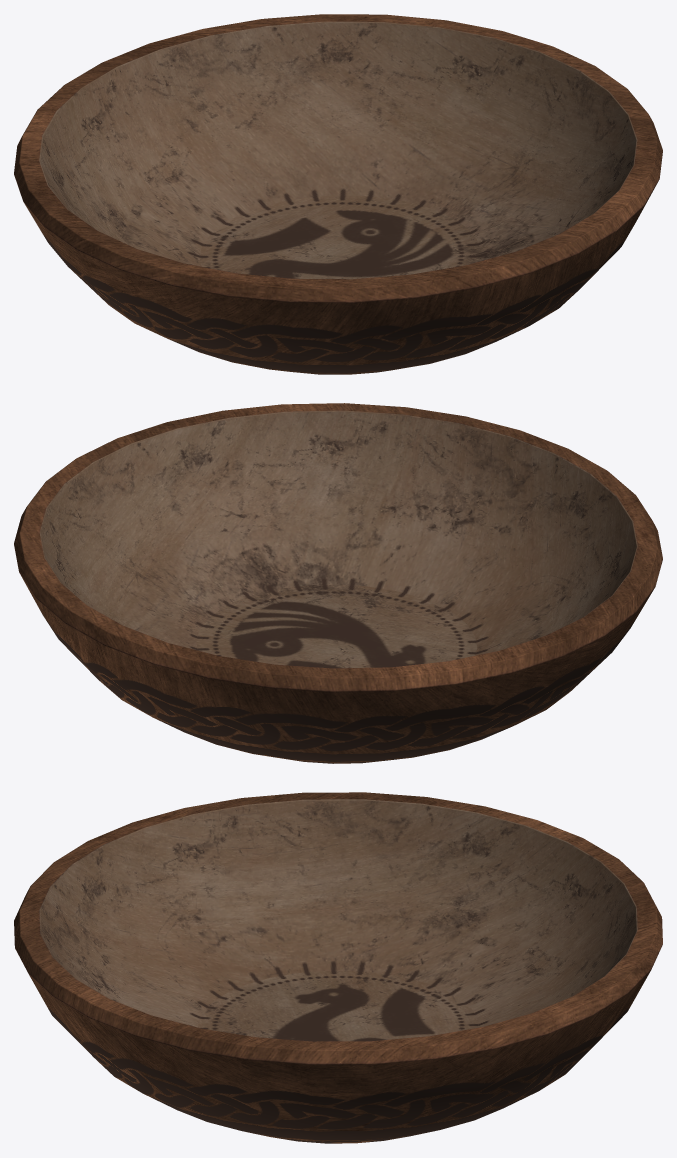
Rendered from BowlMain.glb.
3 renders of one model, top to bottom at view 1: azimuth 30°, elevation 25°; view 2: azimuth 150°, elevation 25°; view 3: azimuth 270°, elevation 25°, orthographic.
Visible parts, largest first — view 1: VikingsObjectsBowl; view 2: VikingsObjectsBowl; view 3: VikingsObjectsBowl.
Part boxes in pixels (x1,y1,x2,y2): VikingsObjectsBowl: [14, 14, 662, 374]; VikingsObjectsBowl: [14, 403, 662, 763]; VikingsObjectsBowl: [14, 792, 662, 1143].
Size of the model in its own units: 0.8788 by 0.2538 by 0.8789.
Materials: 3 (3 with a texture image).
